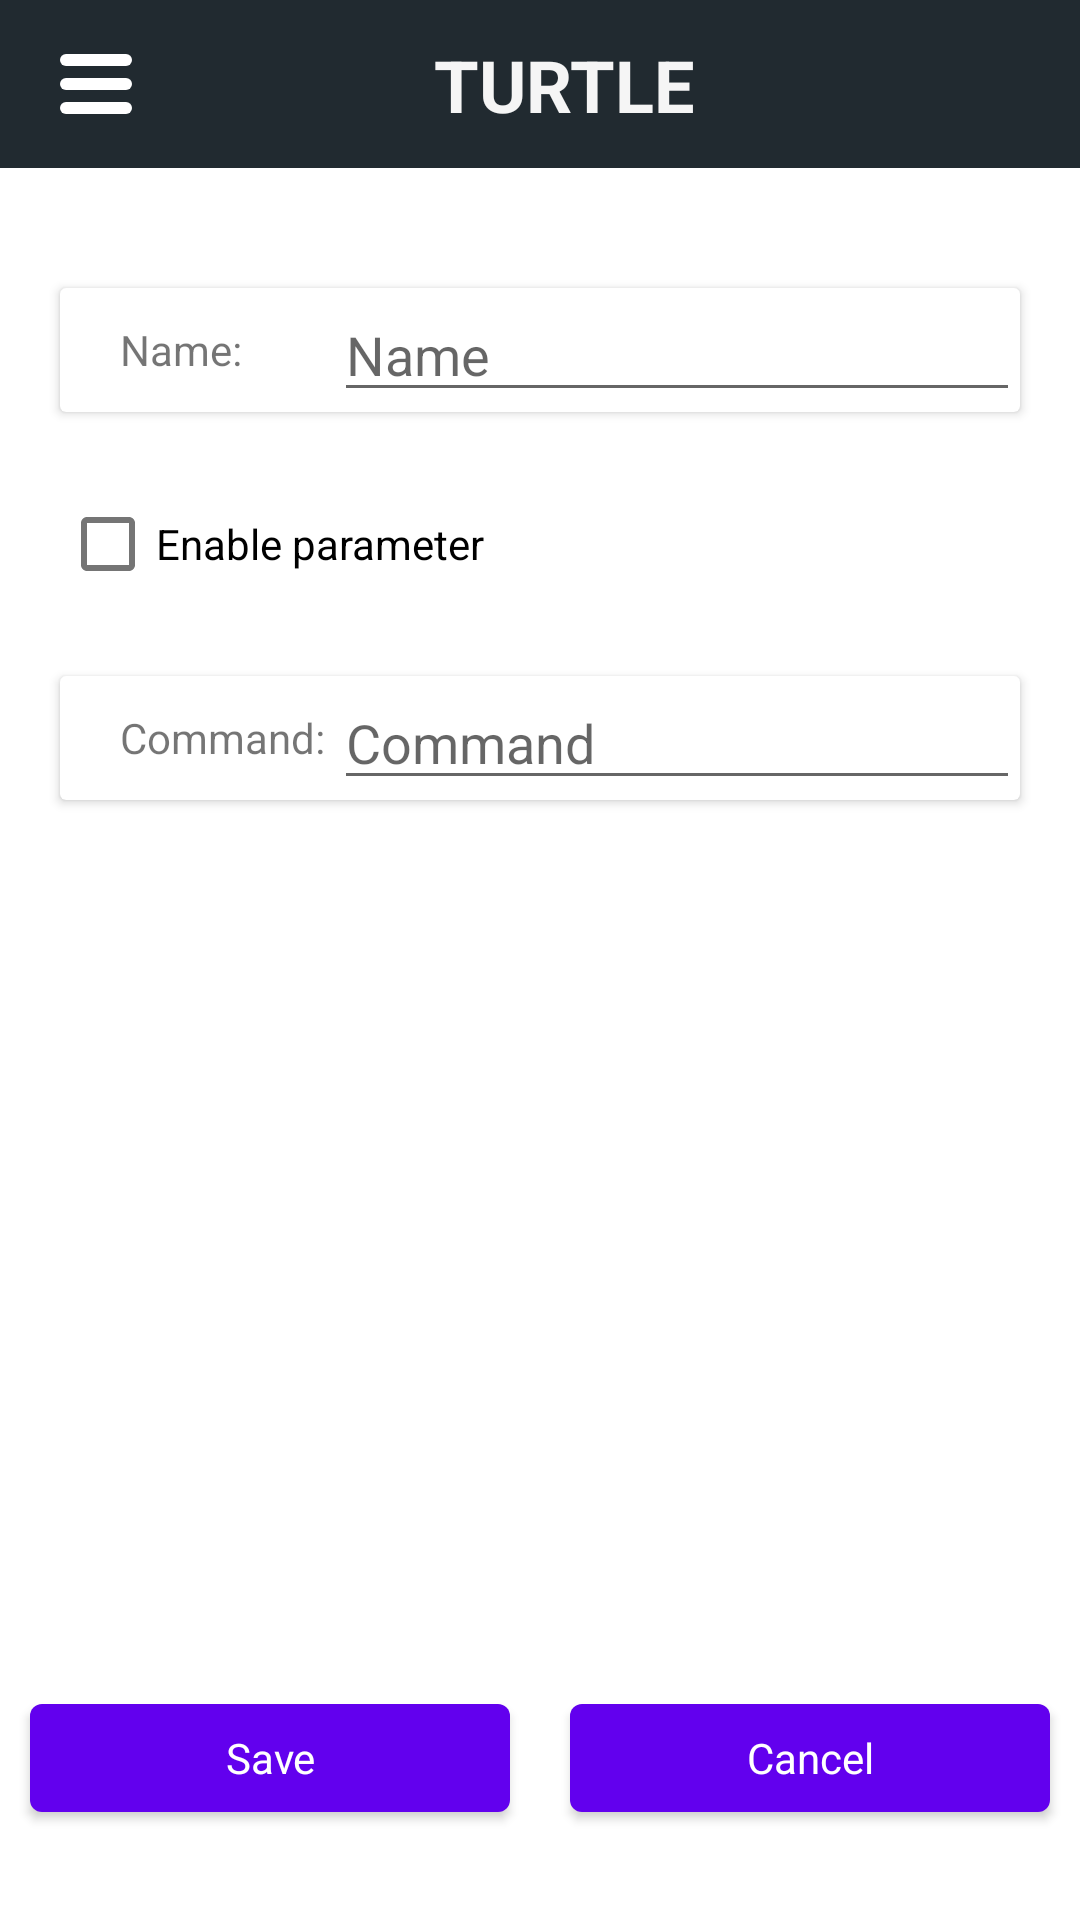

Named icons in this screenshot (1080 × 1920) and their bounding boxes, (x1, y1, x2, y2):
Menu button: (60, 54, 132, 114)
